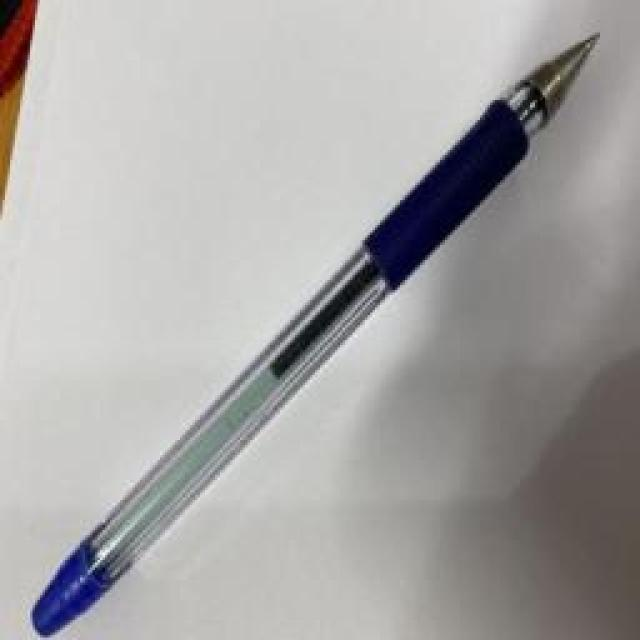pen: (30, 30, 603, 638)
